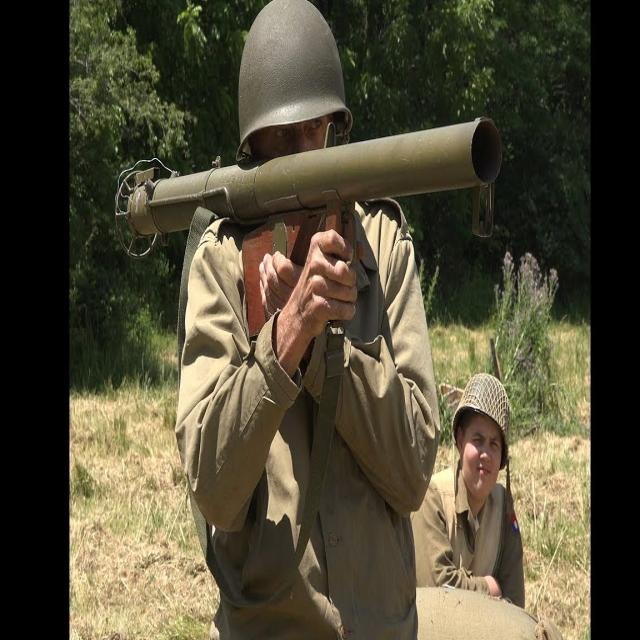Weapon: (116, 119, 501, 259)
